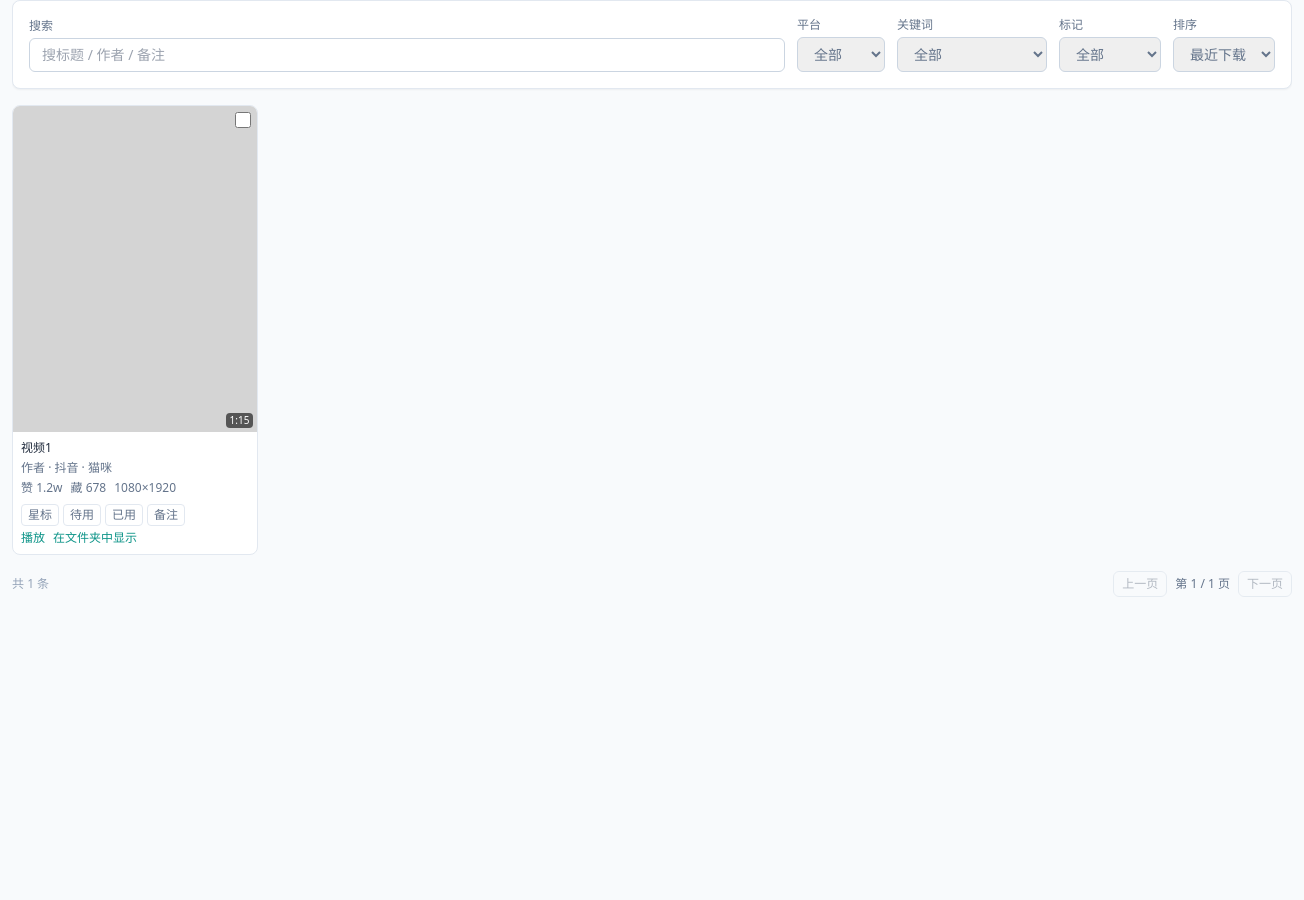
Scenario: 素材库 › 多选 › 统一分辨率没能开始（上一轮还在跑）→ 说原因
The image size is (1304, 900).
Expected: the text "视频1" is shown, x1=21 y1=439 x2=52 y2=456
Click the checkbox named "选中 视频1".
click(243, 120)  # box x1=235 y1=112 x2=251 y2=128
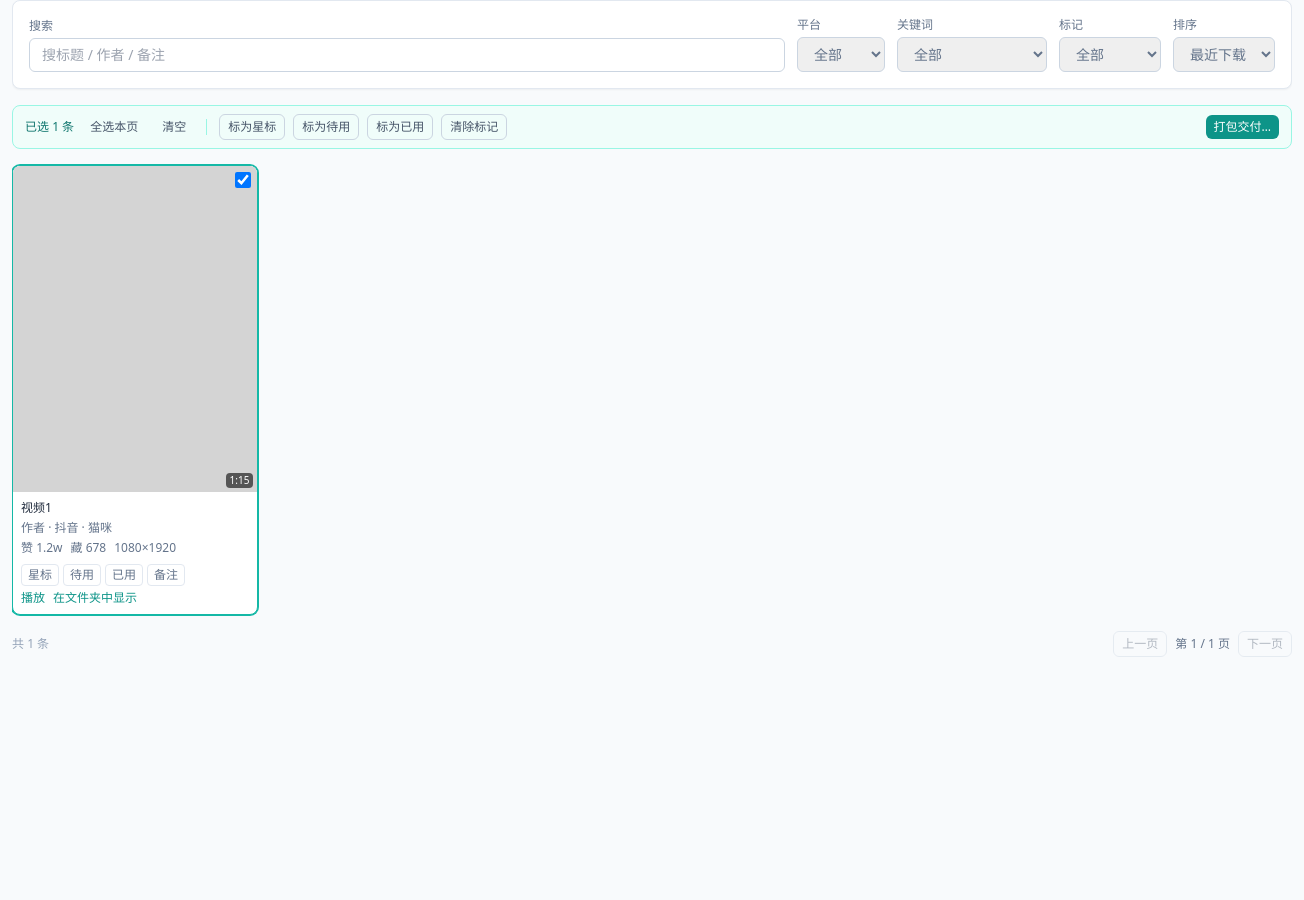
Click the button "打包交付…".
click(1242, 127)  # box x1=1206 y1=115 x2=1279 y2=139
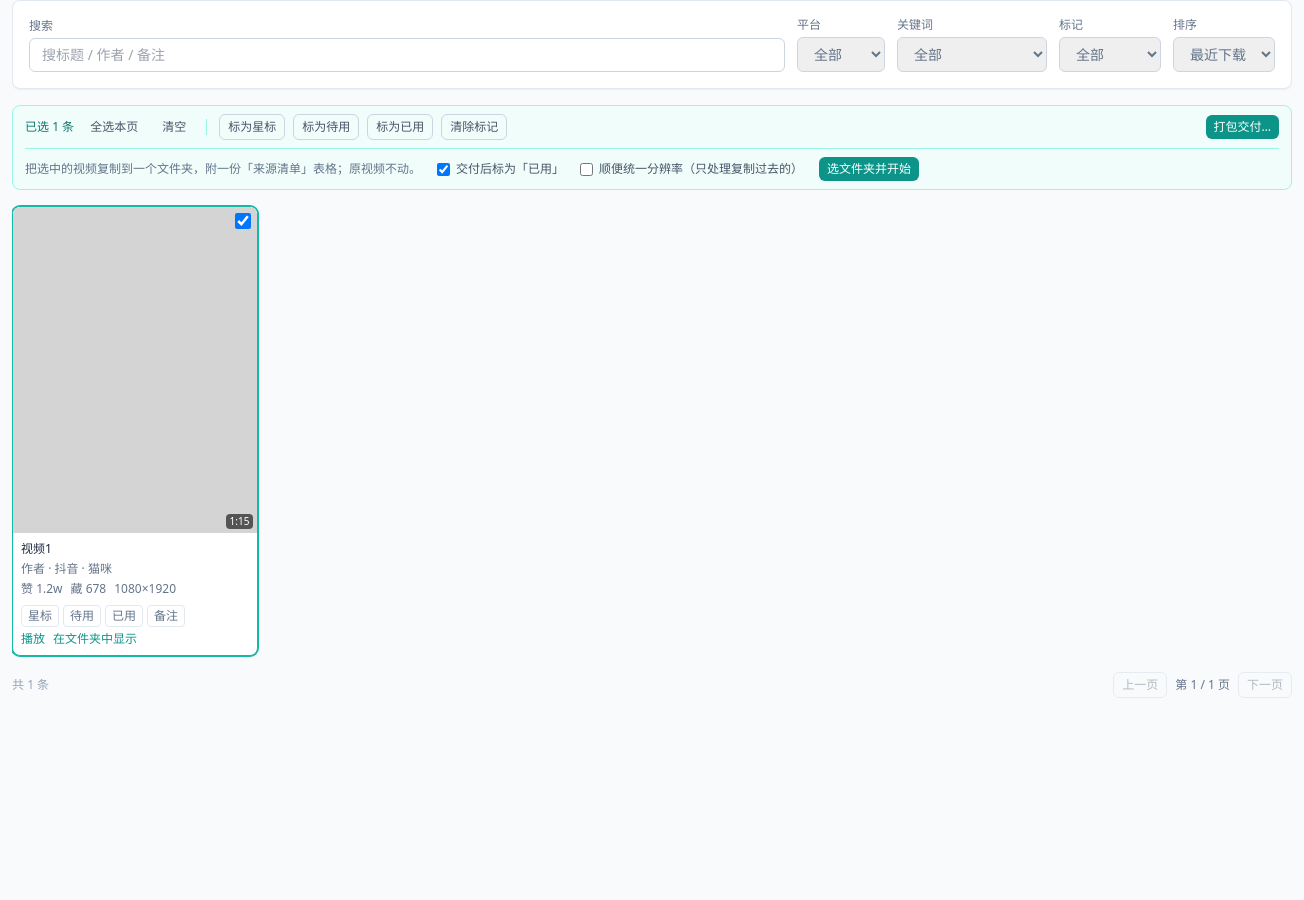
Click the checkbox labelled "顺便统一分辨率（只处理复制过去的）".
click(586, 169)  # box x1=580 y1=162 x2=593 y2=176
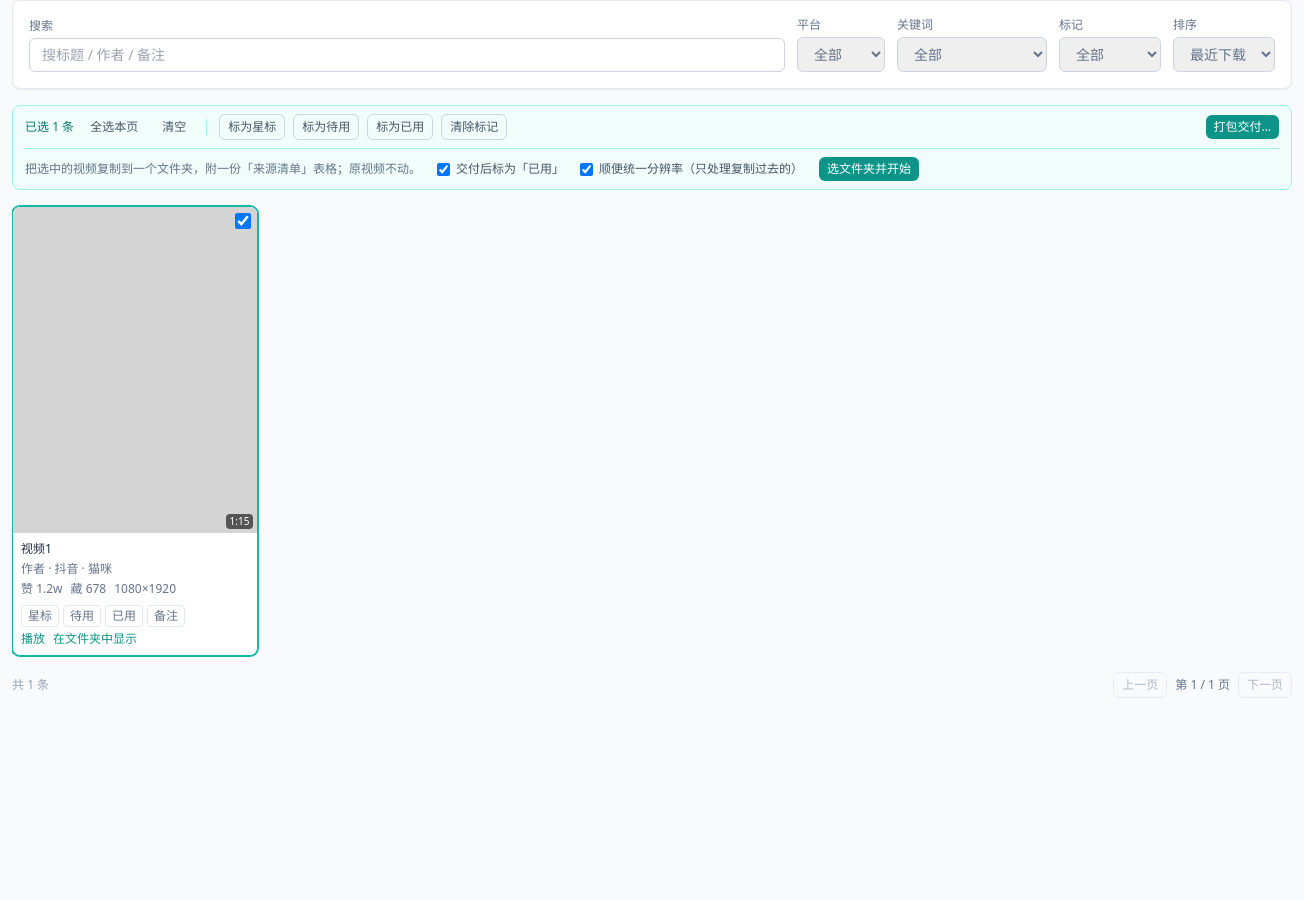
Click the button "选文件夹并开始".
click(869, 169)  # box x1=819 y1=157 x2=919 y2=181
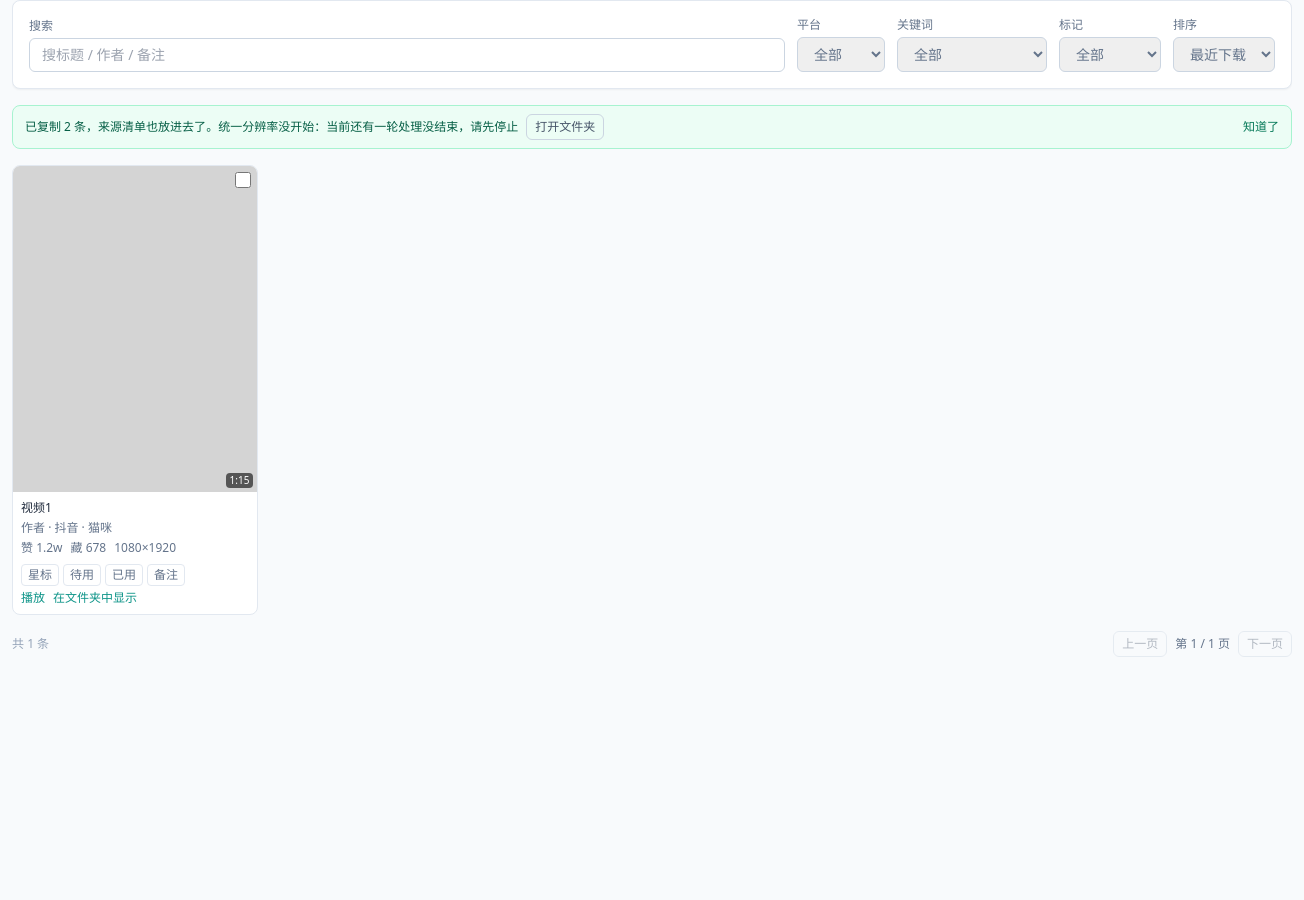
Expected: the element with test id "library-export-done" shows "当前还有一轮处理没结束", x1=206 y1=118 x2=518 y2=135
